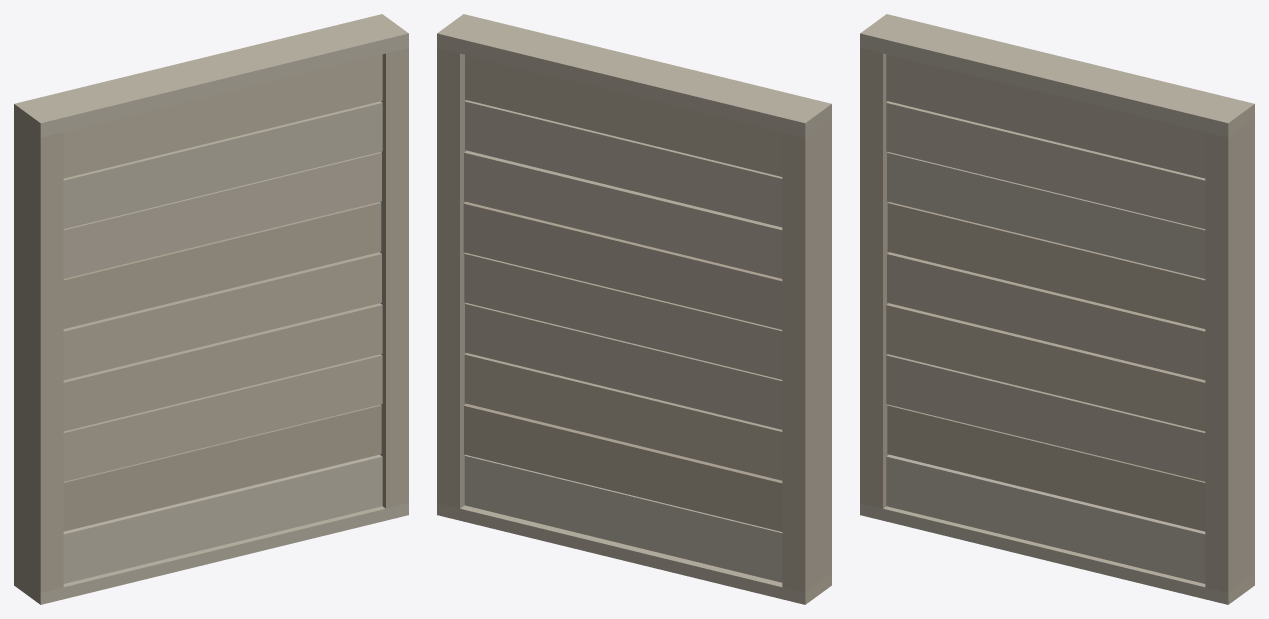
File: TallWall8.glb
The picture shows the model from 3 angles, left to right: view 1: azimuth 30°, elevation 25°; view 2: azimuth 150°, elevation 25°; view 3: azimuth 330°, elevation 25°; orthographic projection.
Visible parts, largest first — view 1: Wood; view 2: Wood; view 3: Wood.
Boxes of the visible parts, x1,y1,x2,y2 form: Wood: (14, 14, 408, 604); Wood: (437, 14, 831, 604); Wood: (860, 14, 1254, 604).
Size of what is drawn, in the model's own units: 8 by 10 by 1.
